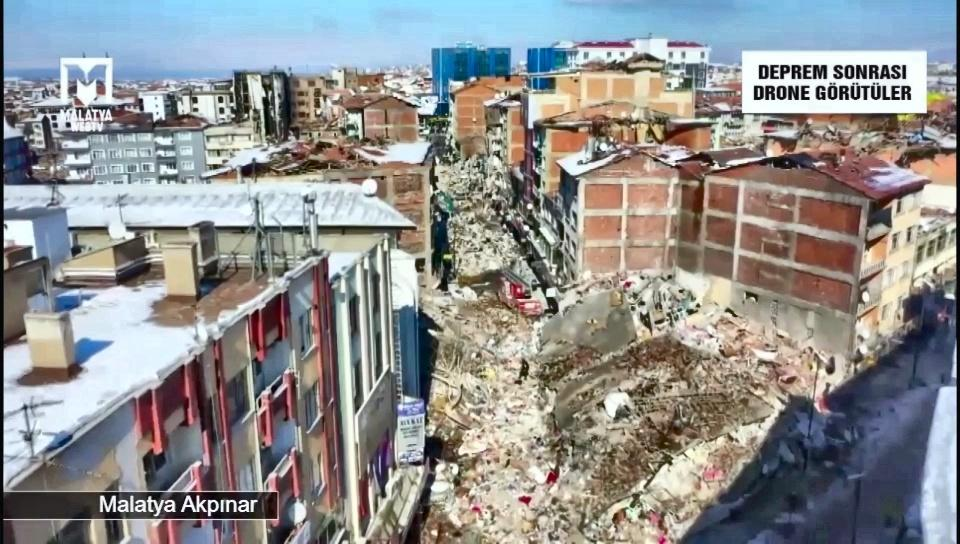kapali: (403, 288, 595, 543), (448, 206, 533, 284), (437, 156, 498, 208)
